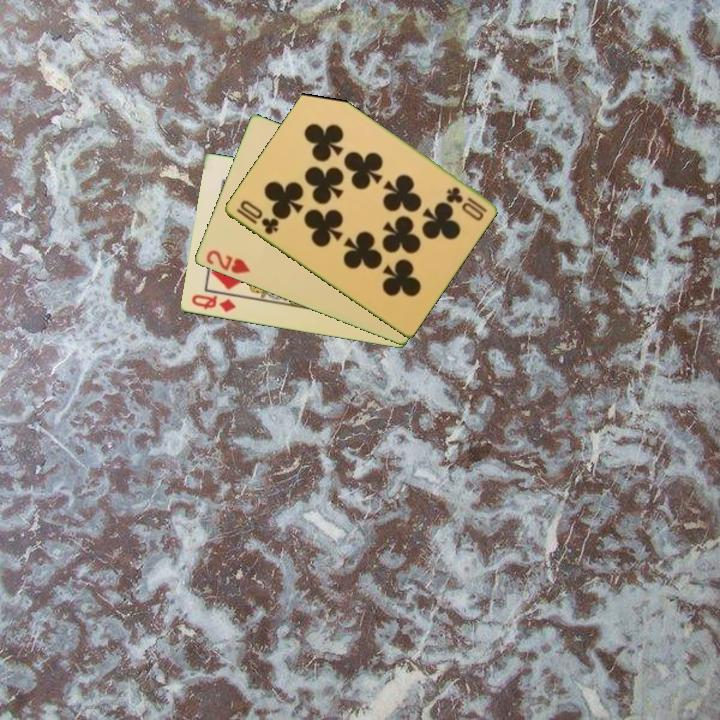10c: (232, 196, 281, 238), (442, 183, 490, 216)
2h: (202, 246, 253, 277)
Qd: (188, 291, 239, 315)
